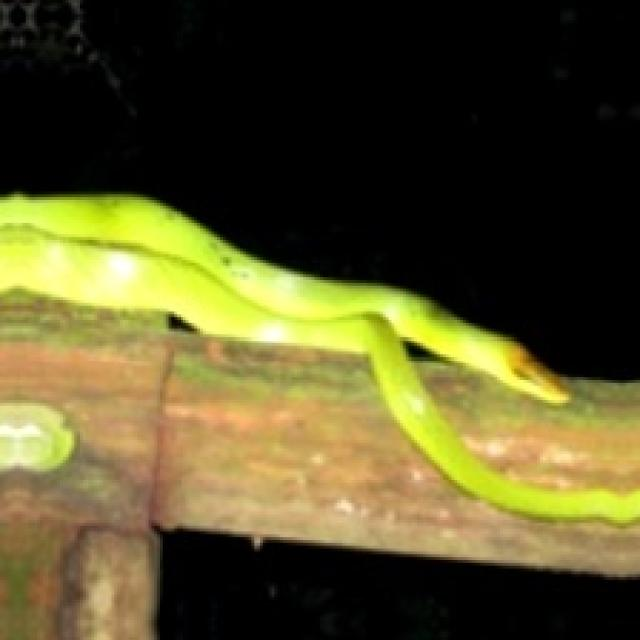red-tailed green ratsnake: (0, 194, 637, 523)
